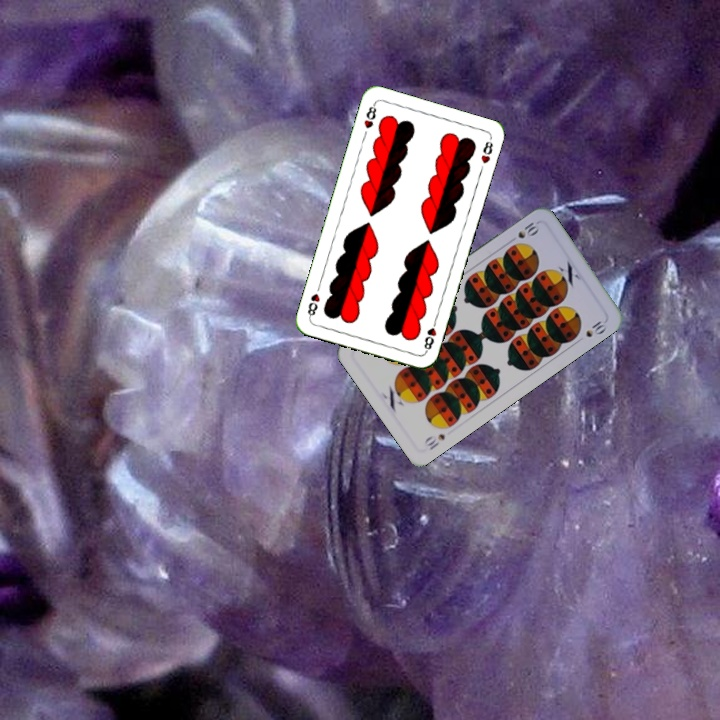H8: (420, 315, 439, 355), (360, 100, 379, 131)
S10: (514, 218, 542, 241), (420, 430, 448, 453)
